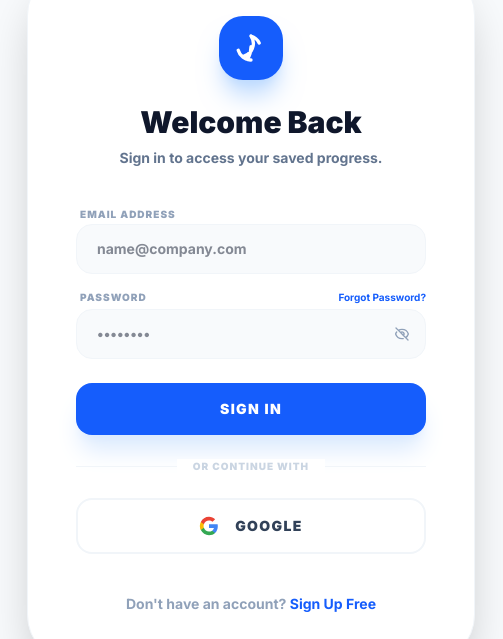
Scenario: Login › should toggle to sign-up mode
Click the button "Sign Up Free".
click(333, 604)  # box [290,594,376,614]
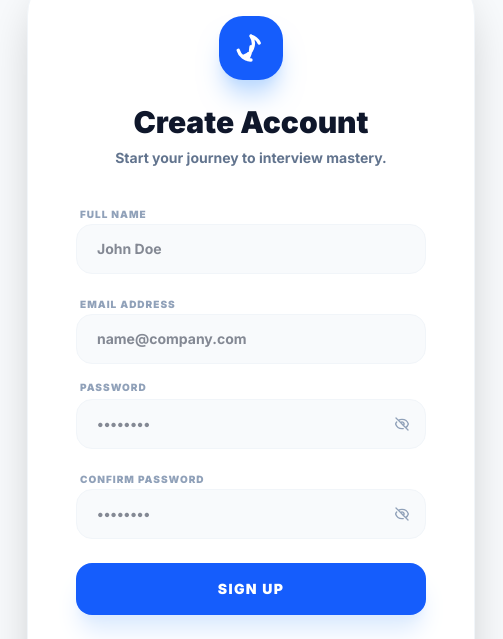
Check: the heading "Create Account" is shown, box [133,104,369,140]
Check: the field labelled "Full Name" is shown, box [76,224,426,274]
